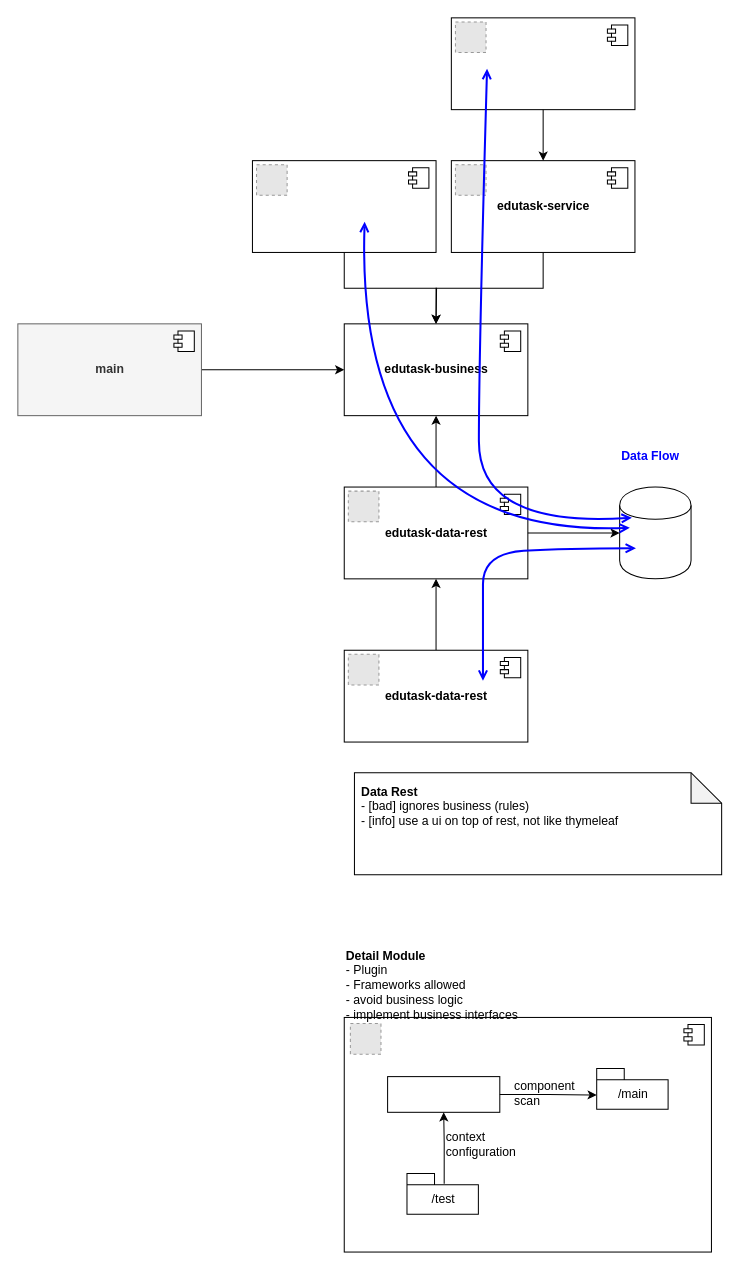
The diagram is 740 pixels wide and 1270 high, and some of its shapes have lost their labels. Grey dashed boxes stand in for pictures. Each missing label, with the box of its shape:
@Configuration: (387, 1076, 500, 1112)
edutask-data-jpa: (343, 1016, 711, 1252)
edutask-ui-angular: (450, 17, 635, 110)
edutask-ui-thymeleaf: (251, 160, 436, 252)
